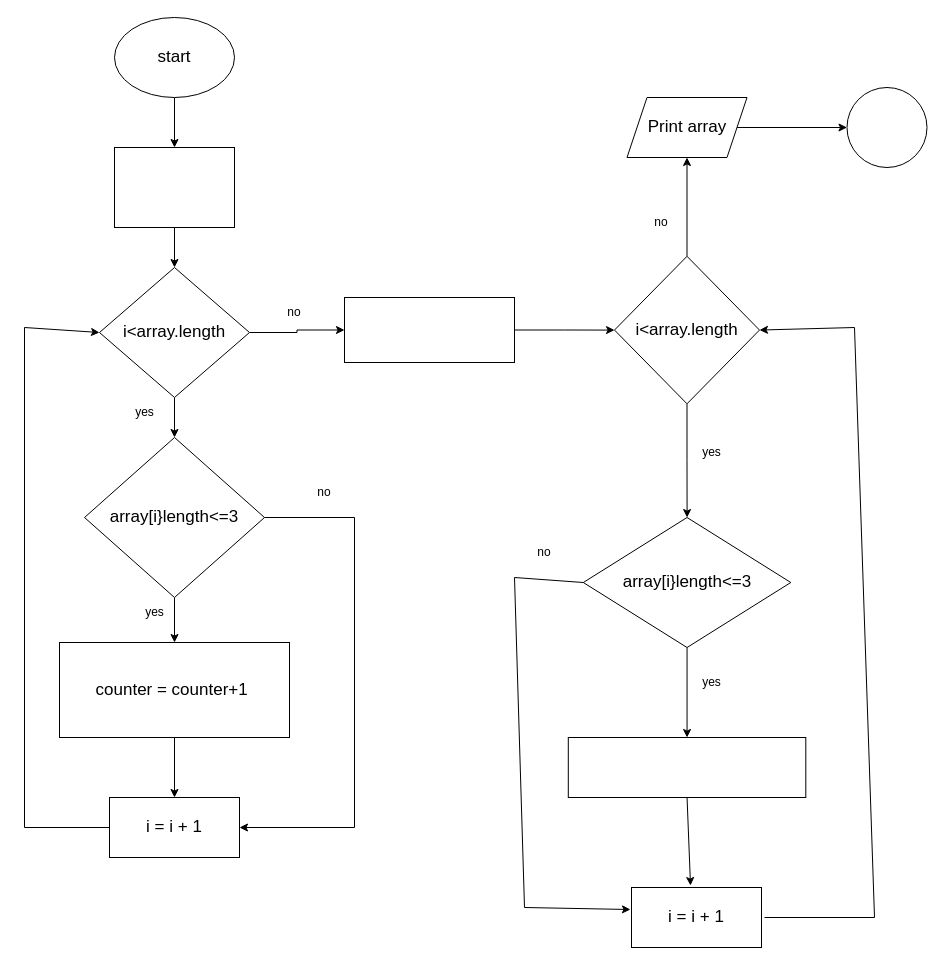
Image size: 945x965. Some labels were removed from this diagram. Here are the shapes that lost their labels. From the top down, the centre of each, then its label:
At (886,127): "Finish".
At (174,187): "i = 0".
At (429,329): "resultArray j=0 i=0".
At (686,767): "resultArray[j] = array[i] j=j+1".
